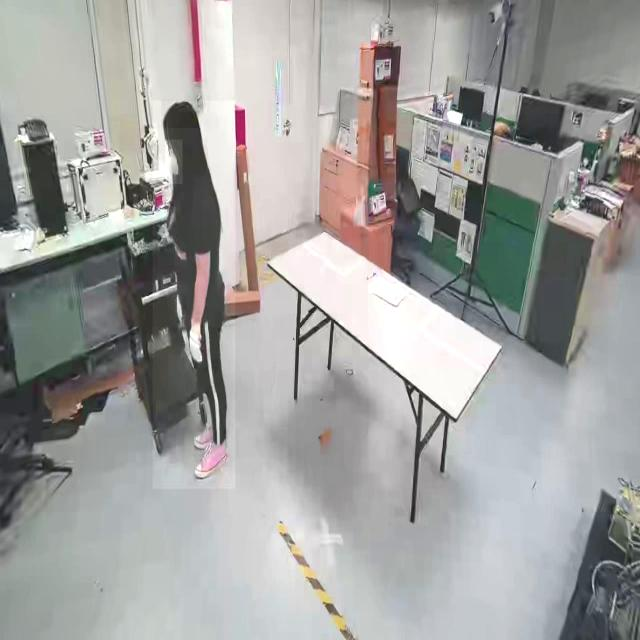face_mask: (165, 140, 182, 184)
hand_glove: (185, 315, 207, 368)
head_nohelmet: (162, 99, 200, 129)
person: (152, 100, 236, 490)
shoes: (194, 432, 233, 482), (190, 416, 220, 452)
